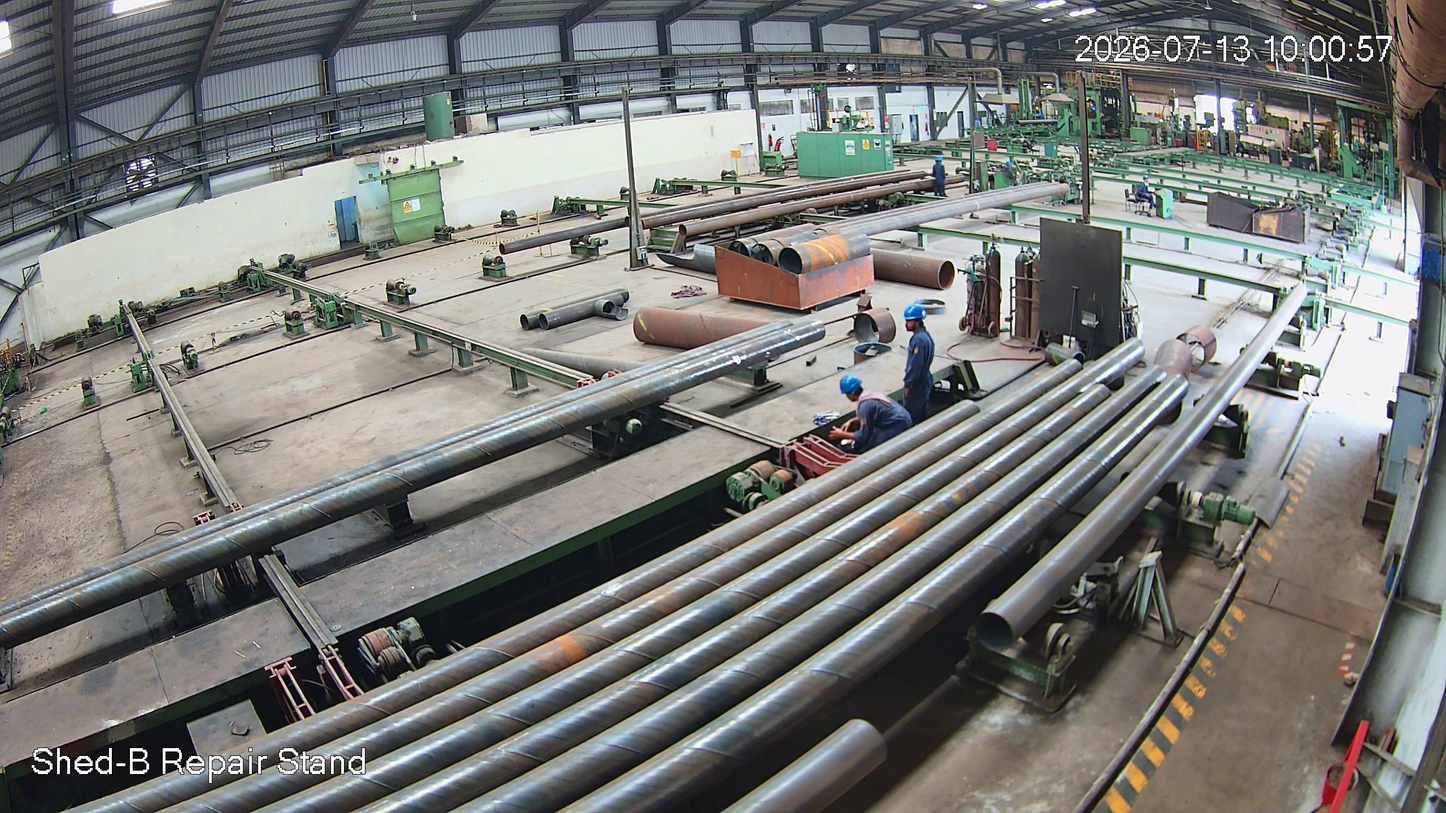Helmet: (900, 304, 931, 339), (837, 375, 870, 407)
Person: (829, 377, 911, 450), (898, 306, 940, 421)
